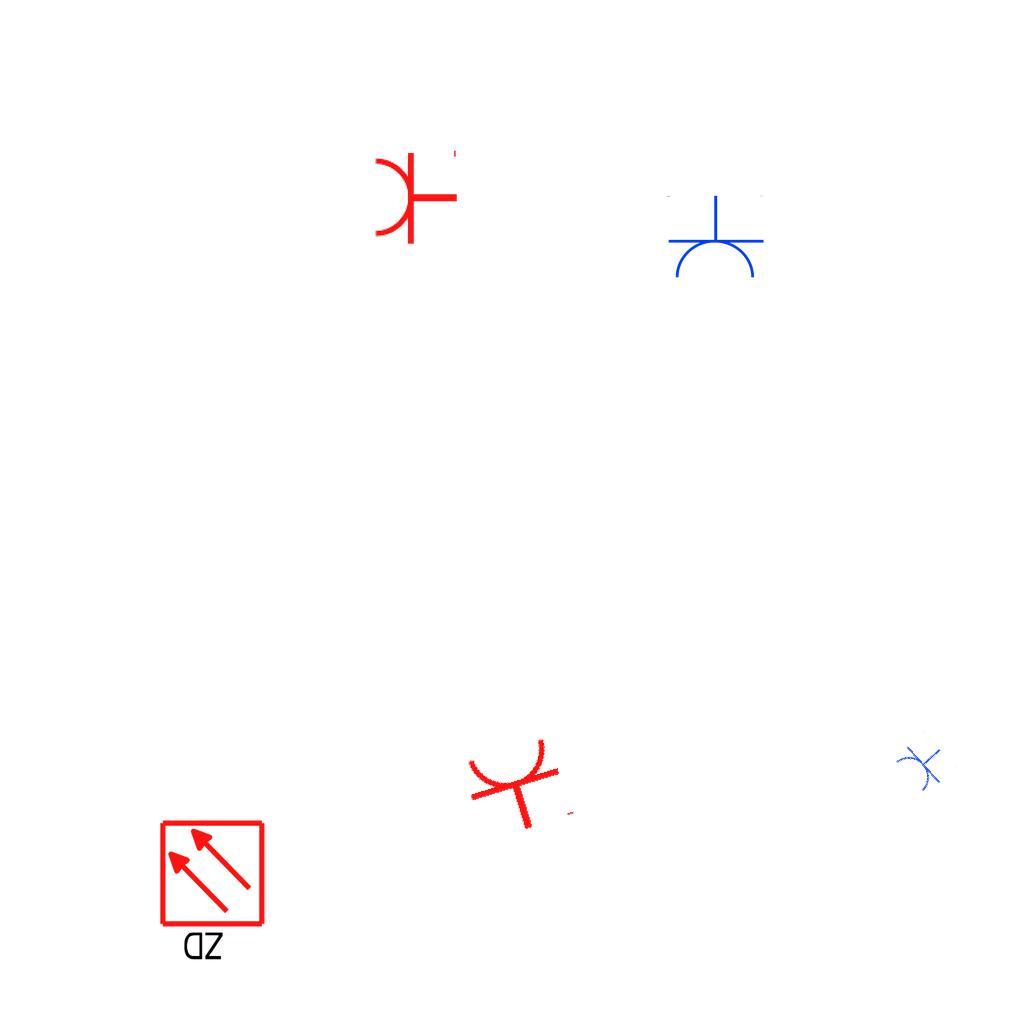Schukosteckdose_einfach: (457, 731, 580, 845), (372, 146, 459, 246), (665, 195, 765, 282), (891, 730, 957, 797)
ZD_Melder_in_Zwischendecke_mit_Revisionsoeffnung_mind_40_x_40_cm: (157, 818, 271, 967)
